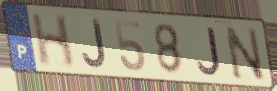5: (112, 18, 147, 73)
8: (152, 21, 186, 76)
H: (30, 12, 77, 69)
J: (80, 17, 108, 70), (196, 26, 223, 77)
N: (222, 24, 268, 82)
